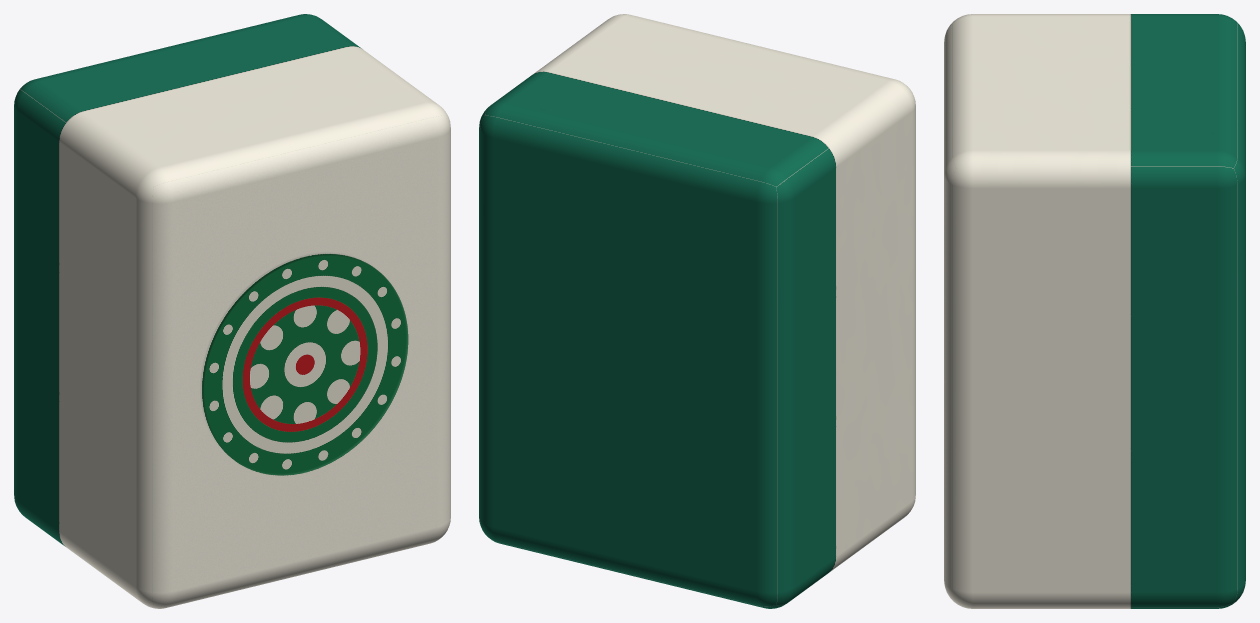
Rendered from tile_1p.obj.
3 renders of one model, left to right at view 1: azimuth 30°, elevation 25°; view 2: azimuth 150°, elevation 25°; view 3: azimuth 270°, elevation 25°, orthographic. The views are drawn at different scales.
Visible parts, largest first — view 1: tile_1p; view 2: tile_1p; view 3: tile_1p.
Boxes of the visible parts, x1,y1,x2,y2 form: tile_1p: (14, 14, 450, 608); tile_1p: (479, 14, 915, 608); tile_1p: (944, 14, 1245, 608).
Size of the model in its own units: 0.026 by 0.035 by 0.021.
1 material, 1 textured.
